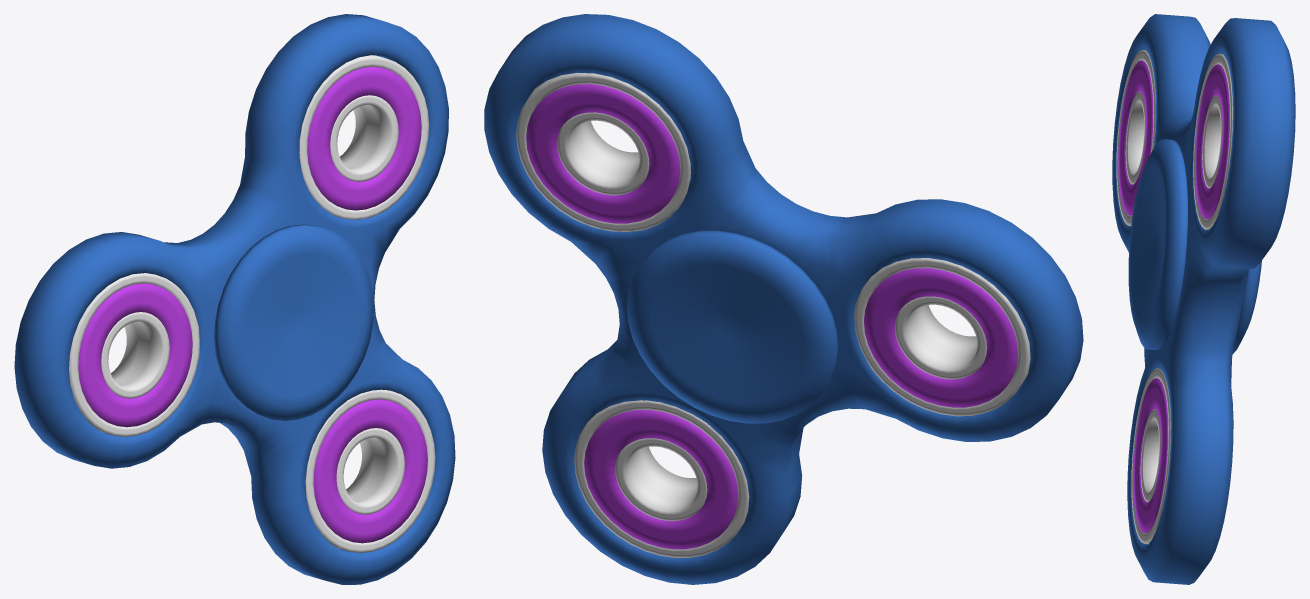
3 views of the same model, side by side, from view 1: azimuth 30°, elevation 25°; view 2: azimuth 150°, elevation 25°; view 3: azimuth 270°, elevation 25° (orthographic). The views are drawn at different scales.
Visible parts, largest first — view 1: Spinner; view 2: Spinner; view 3: Spinner.
Part boxes in pixels (x1,y1,x2,y2): Spinner: (14,14,455,584); Spinner: (484,14,1083,584); Spinner: (1112,14,1295,584).
Bounding box in the file's own units: 1.07 × 1.13 × 0.3371.
